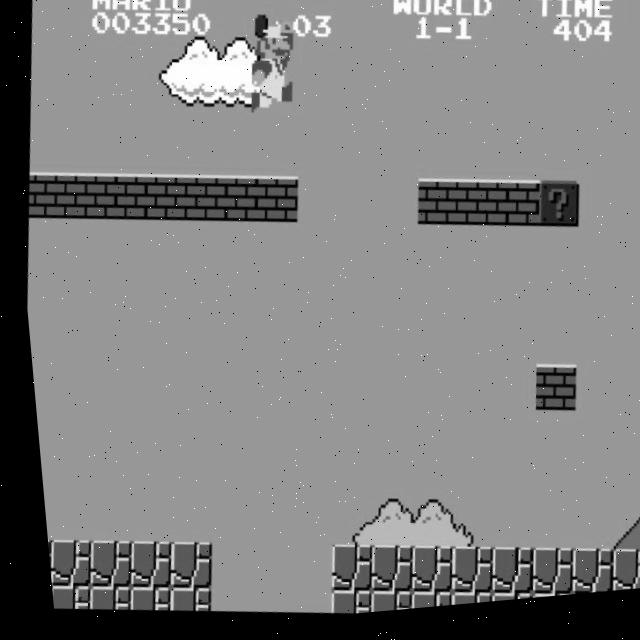1- brick_block: (522, 370, 572, 423), (48, 170, 97, 222), (128, 173, 177, 225), (208, 176, 257, 228), (449, 185, 498, 237), (169, 174, 217, 227), (249, 177, 297, 230), (89, 172, 137, 224), (409, 183, 457, 235), (489, 186, 537, 238), (21, 170, 57, 220)
13- mystery_block: (529, 187, 578, 239)
17- undestructible_block: (115, 539, 165, 593), (75, 538, 125, 591), (155, 541, 205, 594), (316, 546, 365, 600), (356, 548, 405, 601), (396, 549, 445, 602), (436, 551, 485, 604), (476, 552, 525, 605), (516, 553, 565, 606), (38, 536, 84, 589), (556, 555, 605, 604), (596, 556, 640, 601), (76, 584, 121, 614), (116, 585, 161, 615), (156, 586, 201, 616), (316, 592, 361, 621), (41, 582, 81, 612), (356, 593, 401, 618), (396, 594, 441, 615), (437, 596, 481, 613), (477, 598, 521, 610), (636, 559, 640, 598)
4- fire_mario: (239, 19, 299, 121)
8- goomba: (631, 512, 640, 565)
